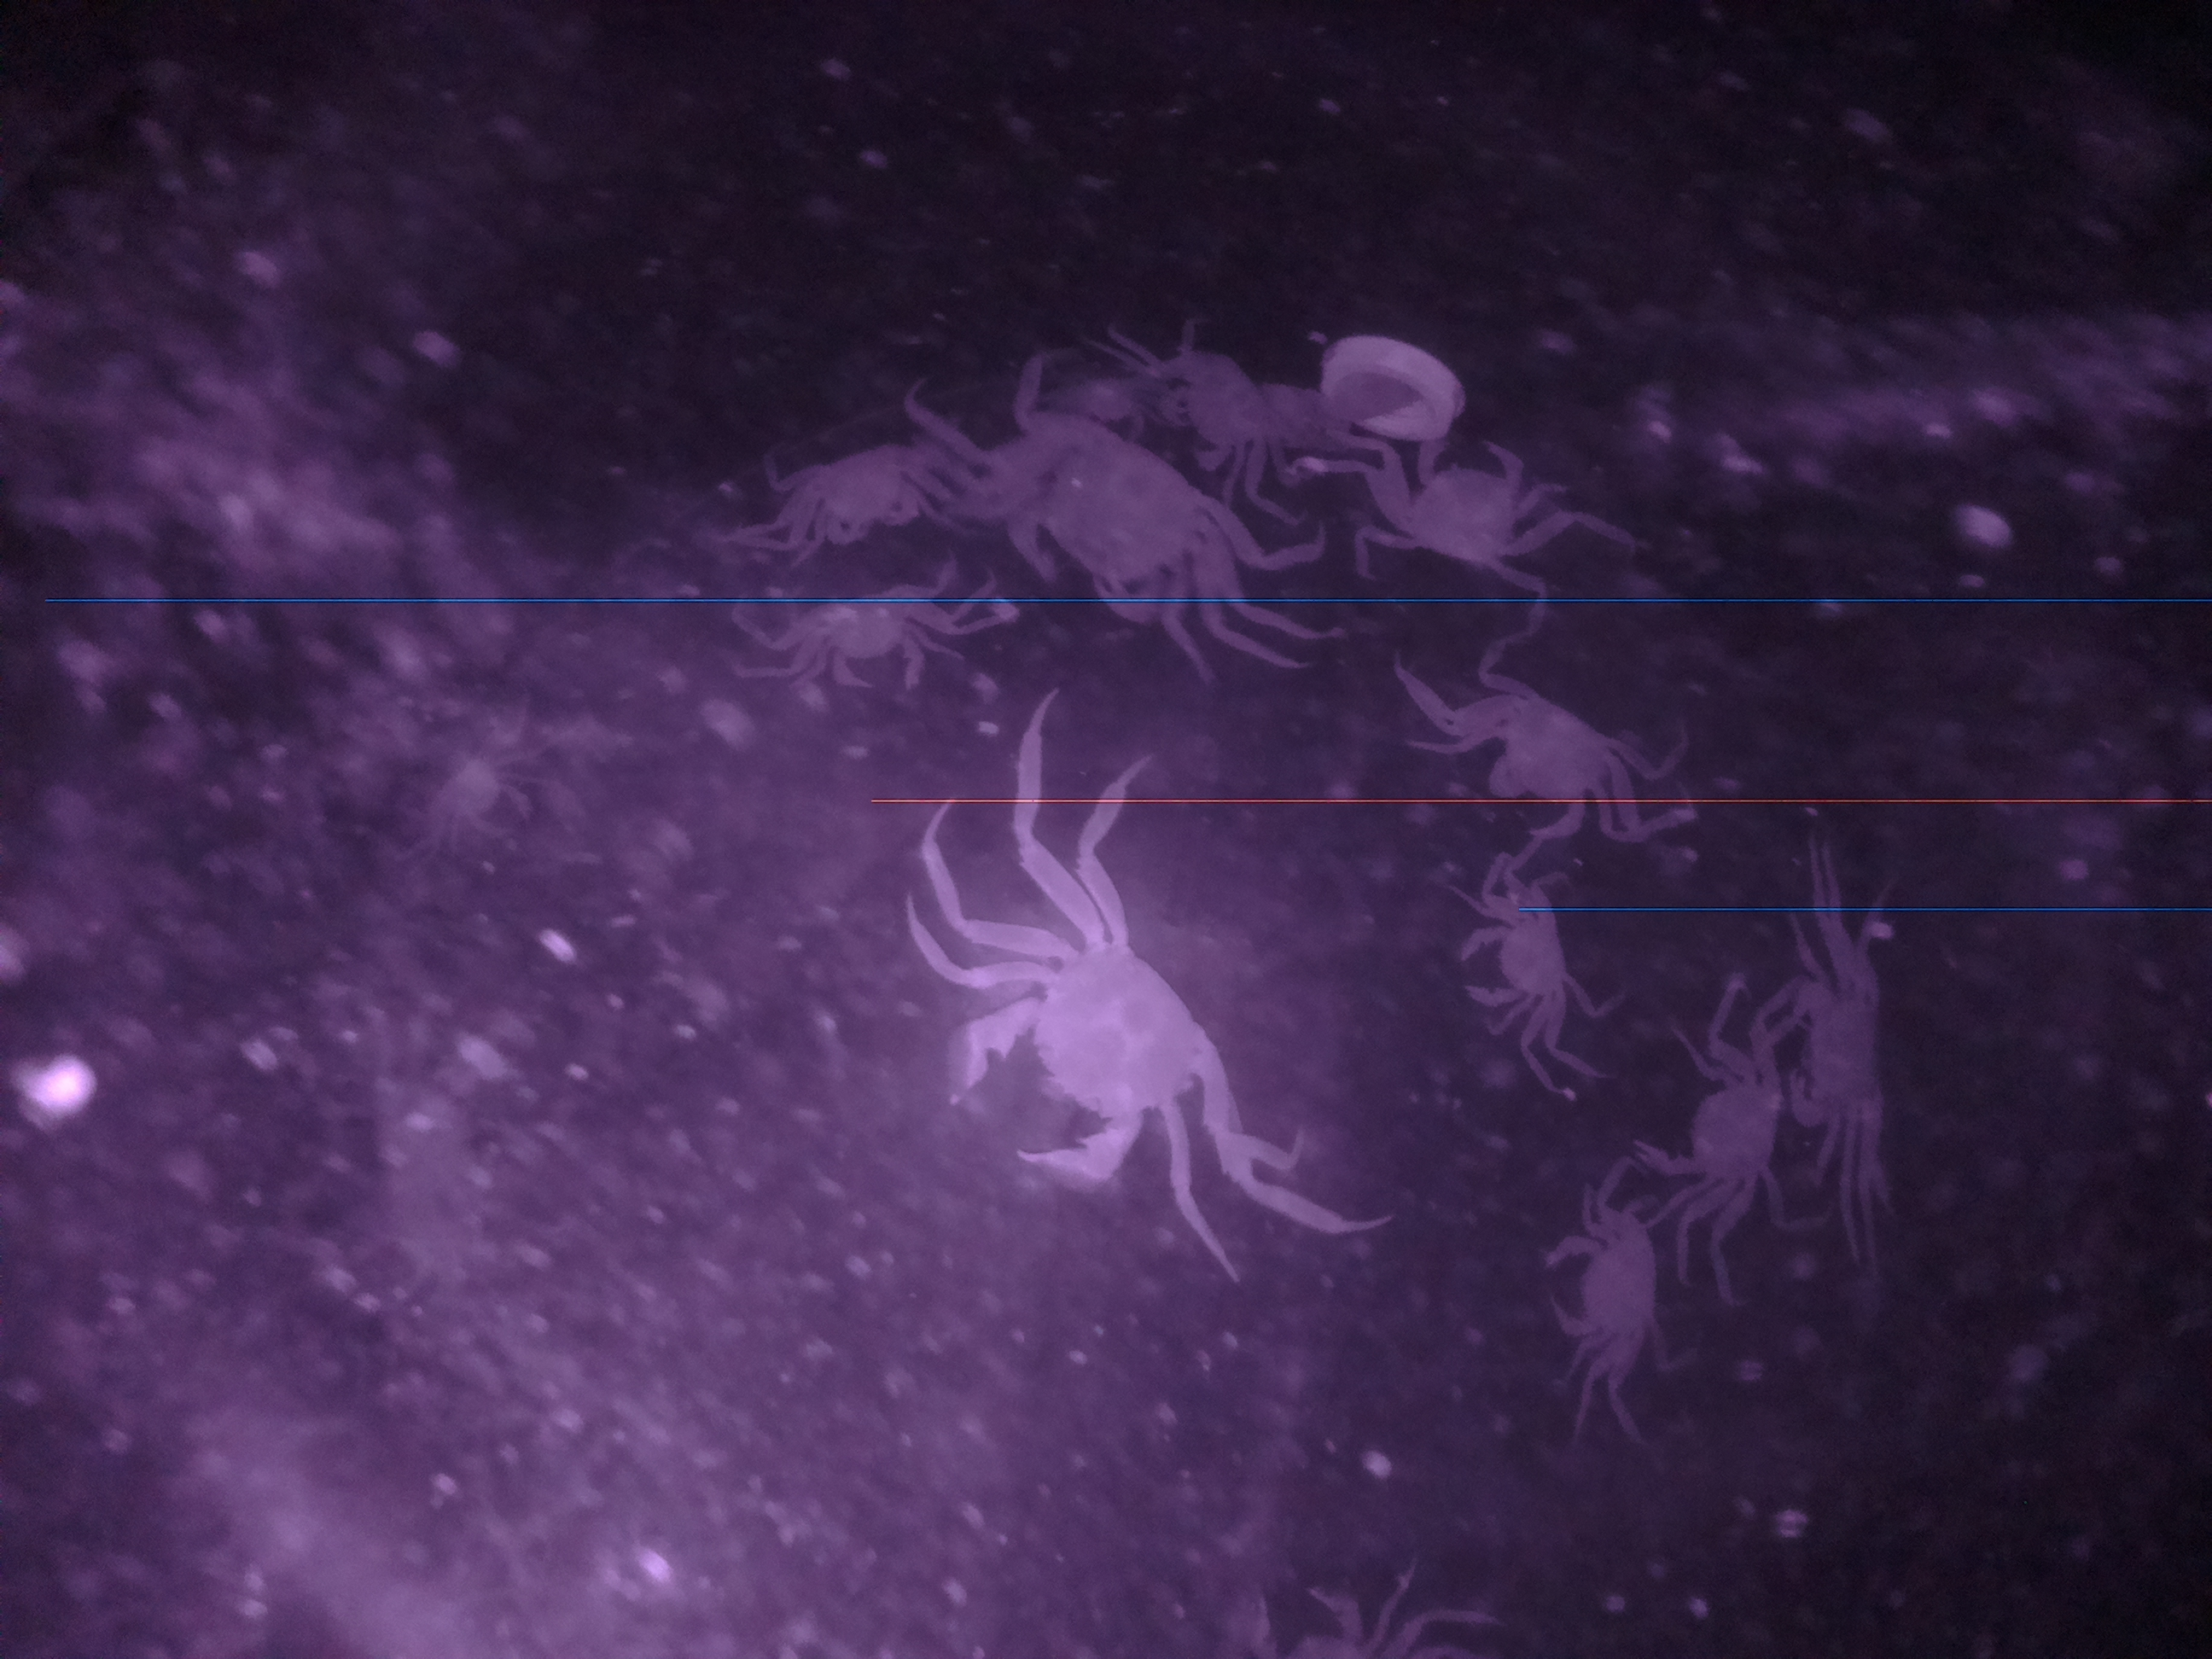Crab: (928, 925, 1231, 1194), (1642, 1021, 1803, 1211), (1376, 420, 1559, 558), (1527, 1211, 1674, 1371), (756, 437, 942, 556), (1144, 331, 1291, 477)
